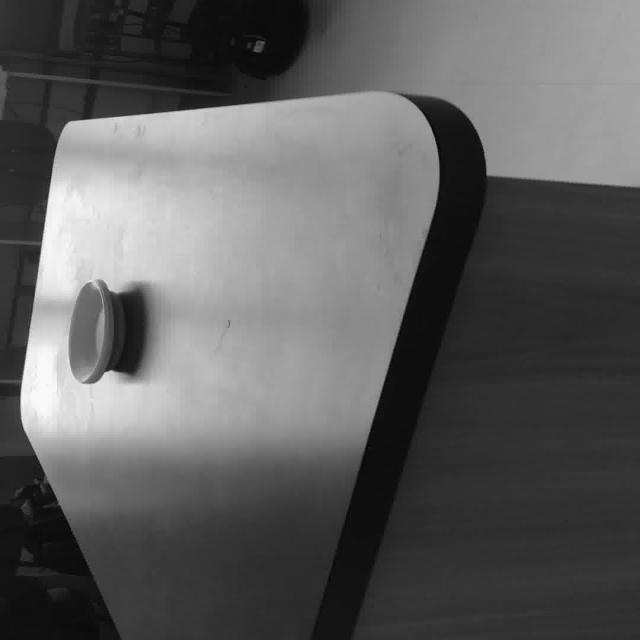plate: (66, 278, 126, 383), (66, 278, 115, 383)
